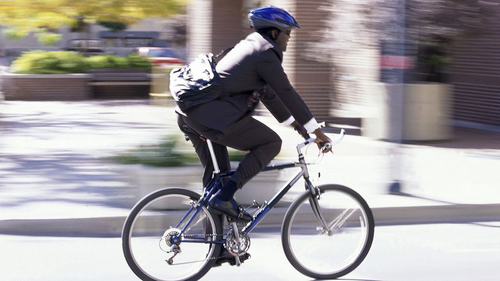bikerider: (110, 10, 378, 276)
